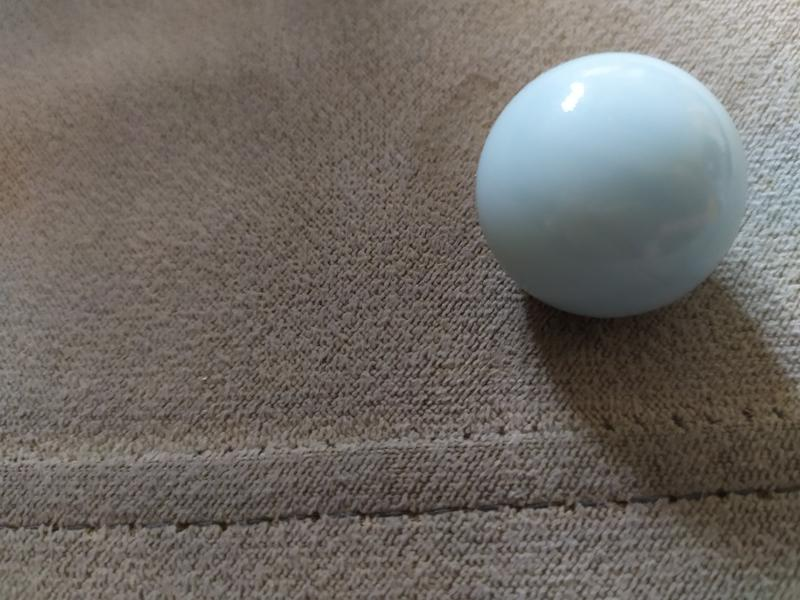Warning: (471, 45, 755, 323)
